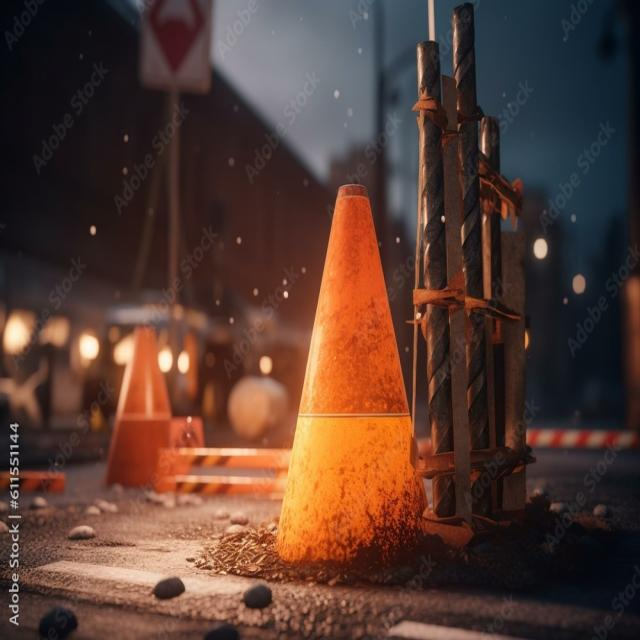cone: (408, 1, 533, 535)
